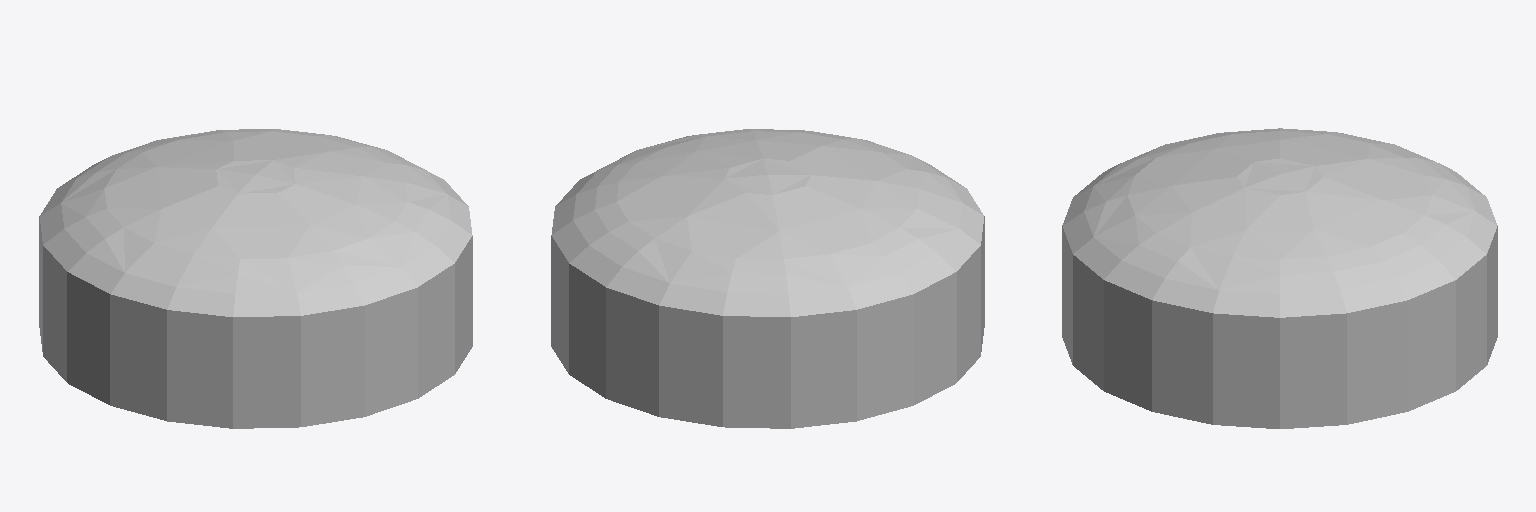
The model's file is Roomba.obj.
The picture shows the model from 3 angles: view 1: azimuth 30°, elevation 25°; view 2: azimuth 150°, elevation 25°; view 3: azimuth 270°, elevation 25°; orthographic projection.
Visible parts, largest first — view 1: initialShadingGroup pCylinder1; view 2: initialShadingGroup pCylinder1; view 3: initialShadingGroup pCylinder1.
Boxes of the visible parts, box(x1,y1,x2,y2) form: initialShadingGroup pCylinder1: box(39, 129, 472, 428); initialShadingGroup pCylinder1: box(551, 129, 984, 428); initialShadingGroup pCylinder1: box(1062, 128, 1497, 428).
Size of the model in its own units: 2 by 0.8256 by 2.